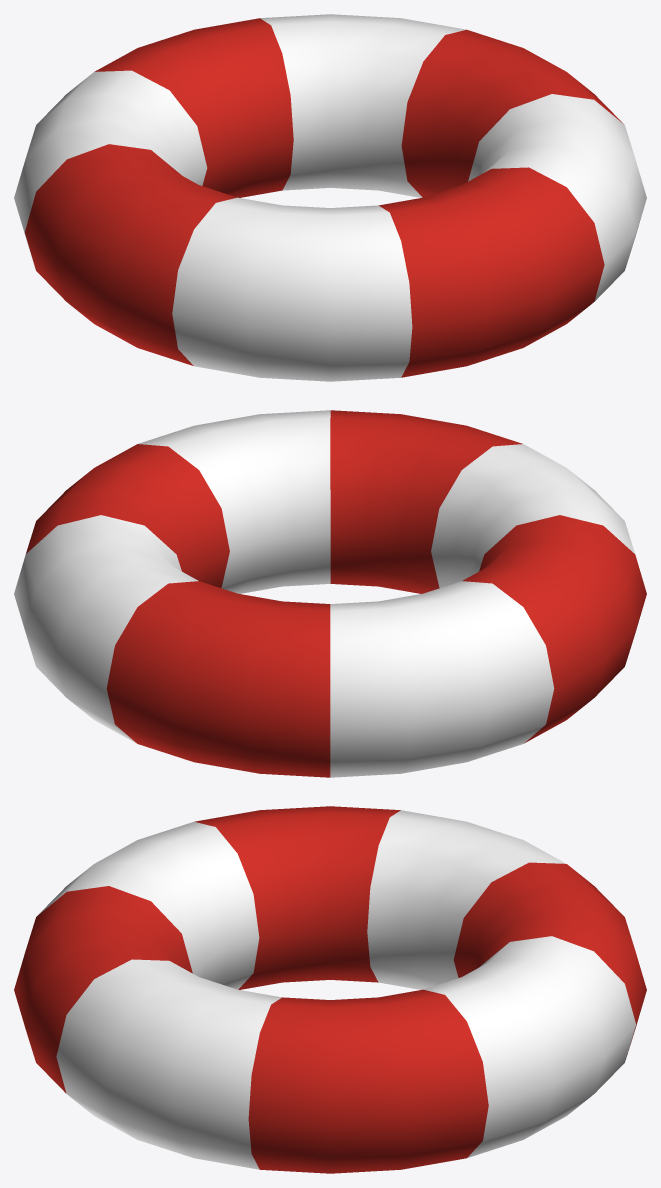
The model's file is Phao1.fbx.
The picture shows the model from 3 angles, top to bottom: view 1: azimuth 30°, elevation 25°; view 2: azimuth 150°, elevation 25°; view 3: azimuth 270°, elevation 25°; orthographic projection.
Parts seen in each view (by area): view 1: Torus; view 2: Torus; view 3: Torus.
Part boxes in pixels (x1,y1,x2,y2): Torus: (14,14,646,381); Torus: (14,410,646,777); Torus: (14,806,646,1173).
Size of the model in its own units: 1.46 by 0.4023 by 1.46.
